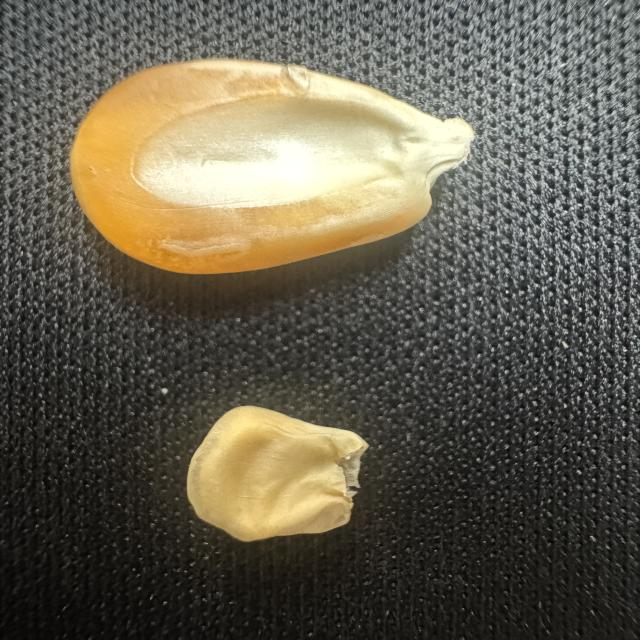Bad-Seed: (176, 396, 379, 548)
Good-Seed: (64, 58, 478, 291)
